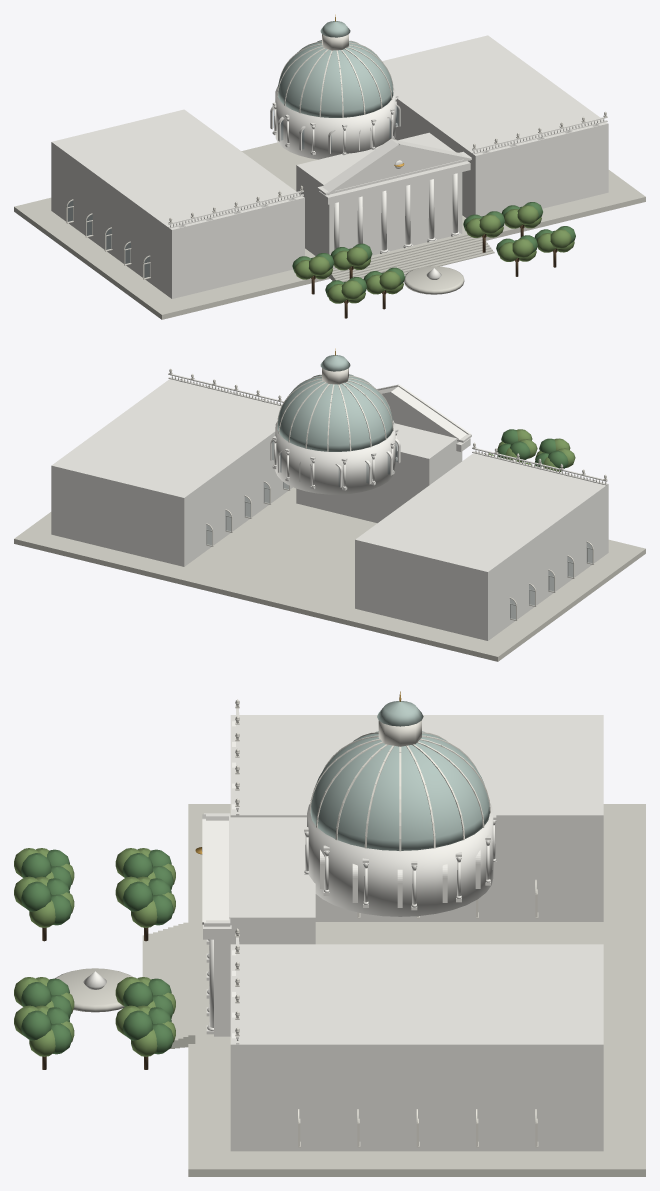
Rendered from map.glb.
3 views of the same model, one above another, from view 1: azimuth 30°, elevation 25°; view 2: azimuth 150°, elevation 25°; view 3: azimuth 270°, elevation 25° (orthographic). The views are drawn at different scales.
Bounding box in the file's own units: 102 × 39.6 × 74.59.
